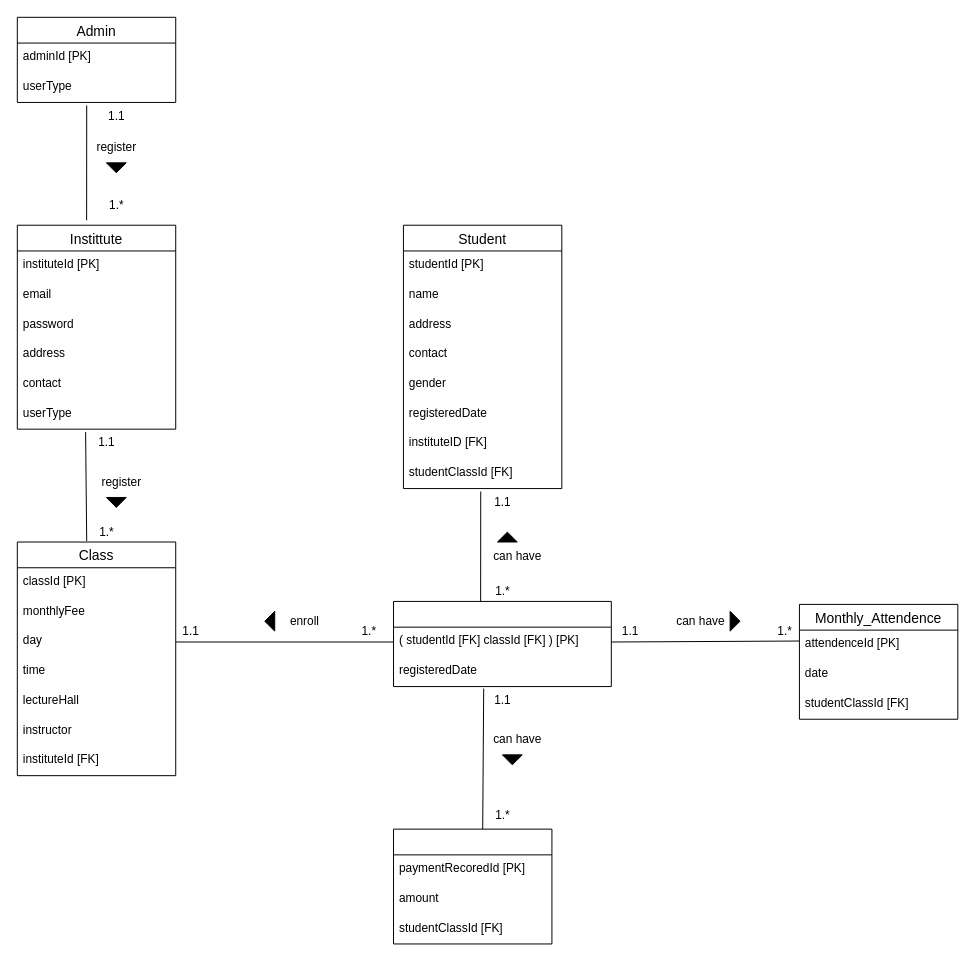
This 975x964 diagram has some shape labels left out. Here are the shapes that lost their labels. From the top down, the box of each, then its label:
(393, 600, 611, 687): Student_Class
(393, 828, 552, 944): Payment_Record
